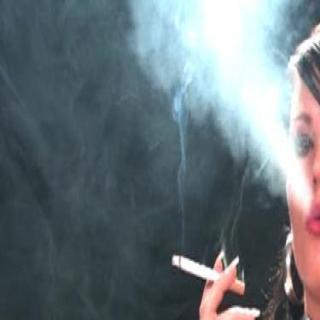smoke: (158, 0, 320, 212)
